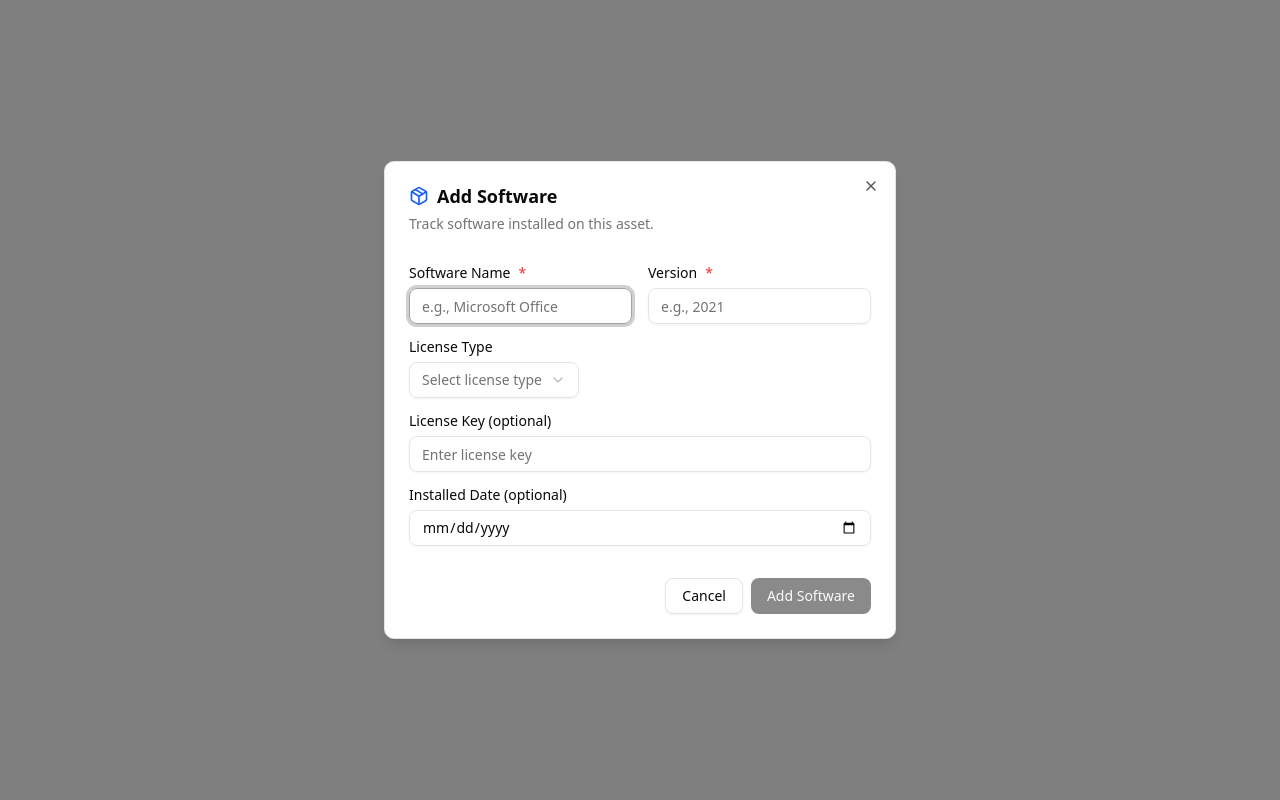
it: SoftwareDialog › should enable save button when required fields are filled
Type "Microsoft Office" into the field labelled "Software Name *" at (520, 306), box [409,288,632,324]
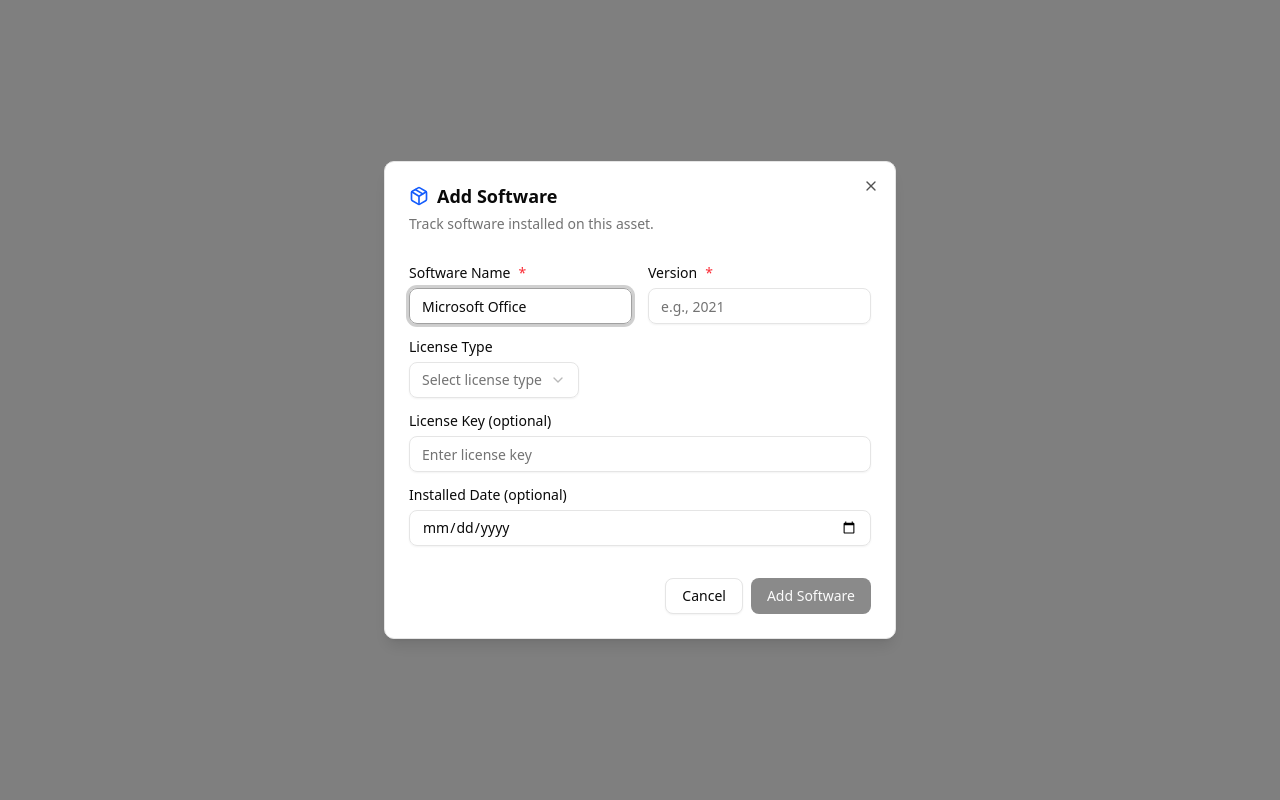
Type "2021" into the field labelled "Version *" at (760, 306), box [648,288,871,324]
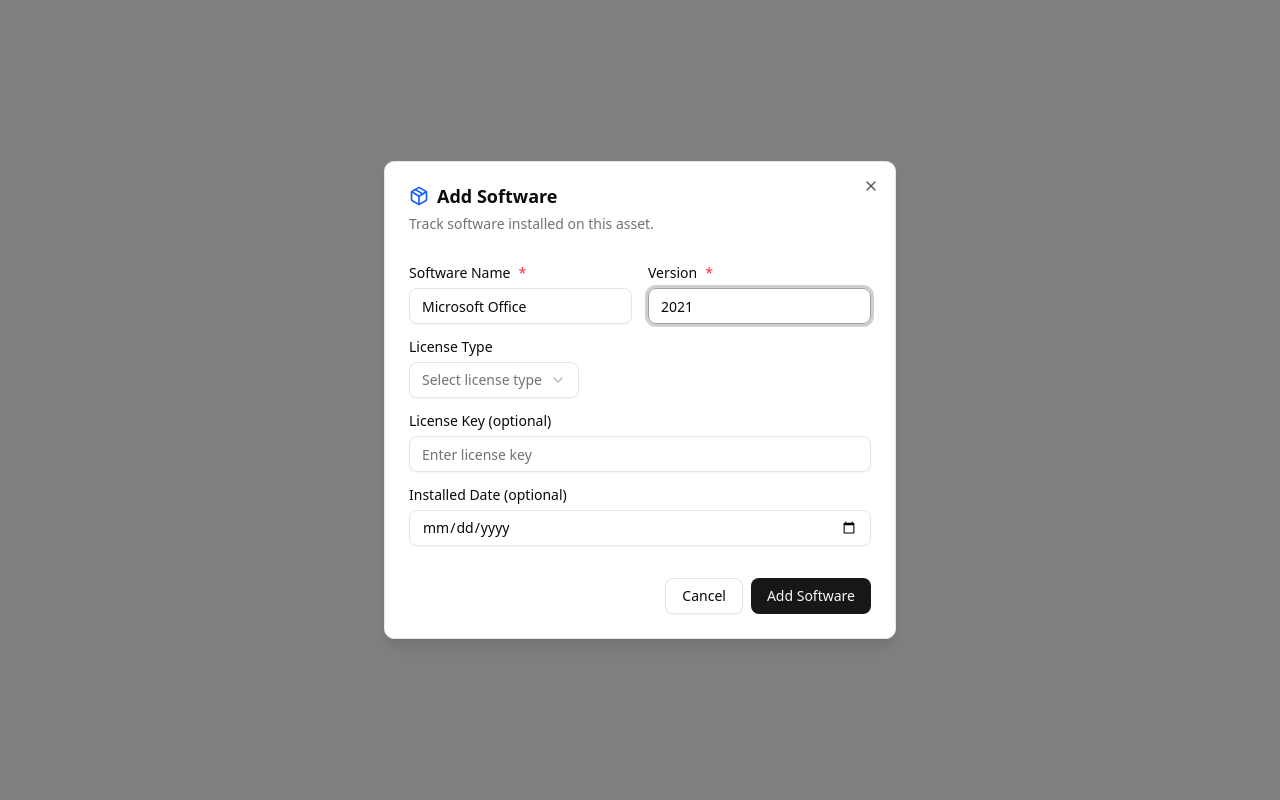
Expected: the button "Add Software" is enabled, [751,578,871,614]
